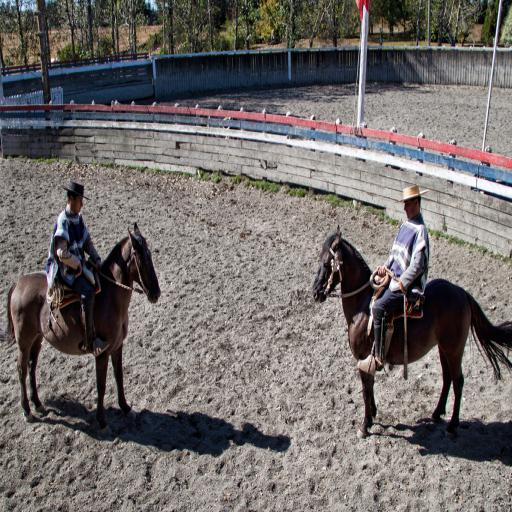horse: (312, 224, 512, 440), (7, 219, 162, 439)
